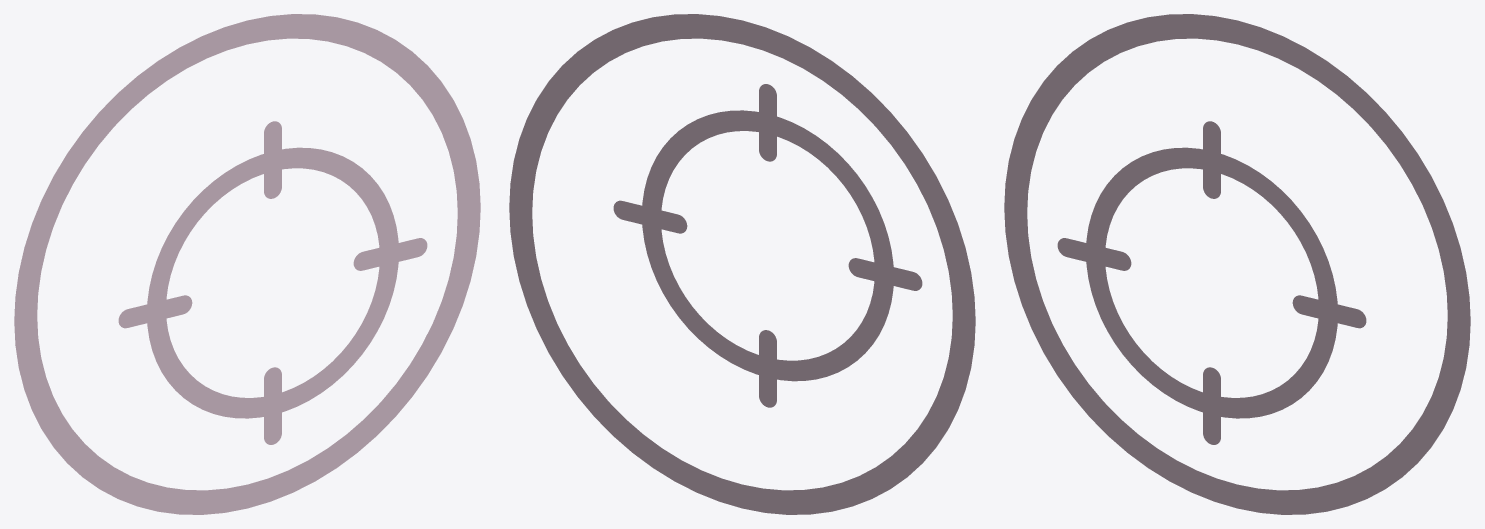
File: Natsu.fbx
3 views of the same model, side by side, from view 1: azimuth 30°, elevation 25°; view 2: azimuth 150°, elevation 25°; view 3: azimuth 330°, elevation 25° (orthographic).
Parts seen in each view (by area): view 1: 円大, 円小, 羽; view 2: 円大, 円小, 羽; view 3: 円大, 円小, 羽.
Boxes of the visible parts, box(x1,y1,x2,y2) form: 円大: box(14, 14, 480, 514); 円小: box(147, 147, 398, 418); 羽: box(118, 121, 427, 444); 円大: box(509, 14, 975, 514); 円小: box(642, 110, 893, 381); 羽: box(613, 84, 922, 407); 円大: box(1004, 14, 1470, 514); 円小: box(1086, 147, 1337, 418); 羽: box(1057, 121, 1366, 444).
Size of the model in its own units: 370 by 370 by 35.01.
